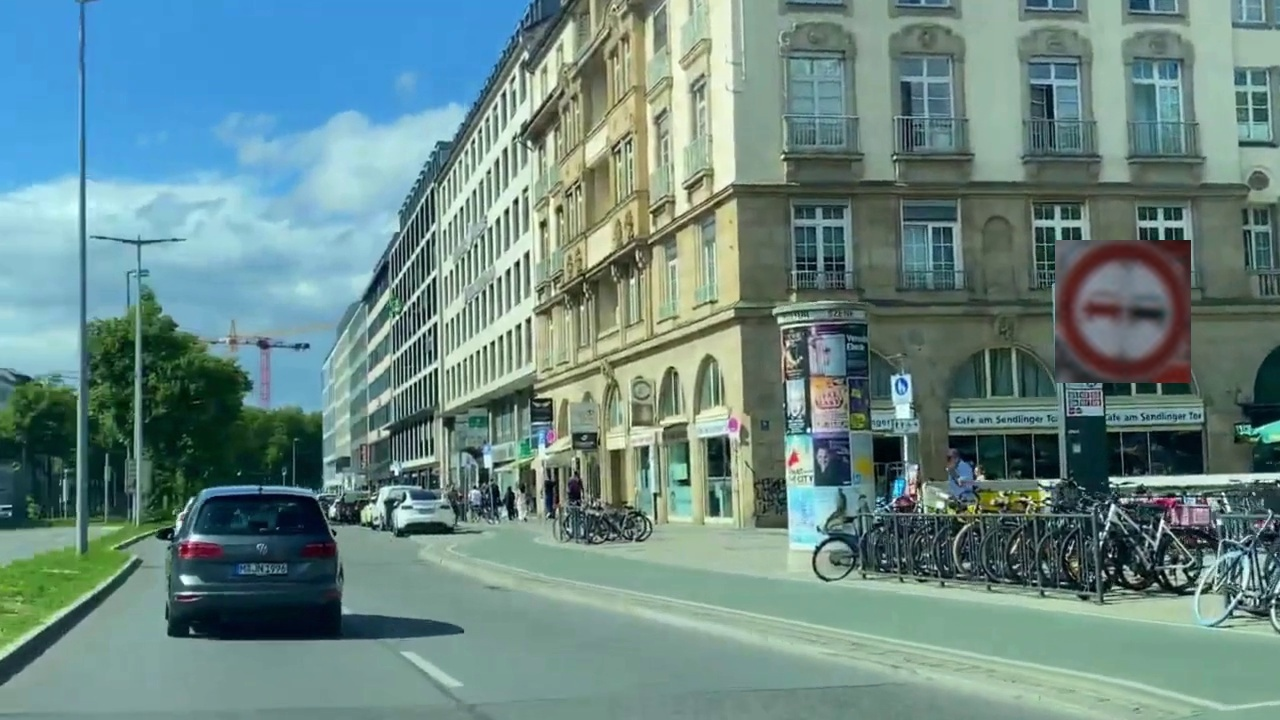No passing: (1055, 240, 1191, 383)
